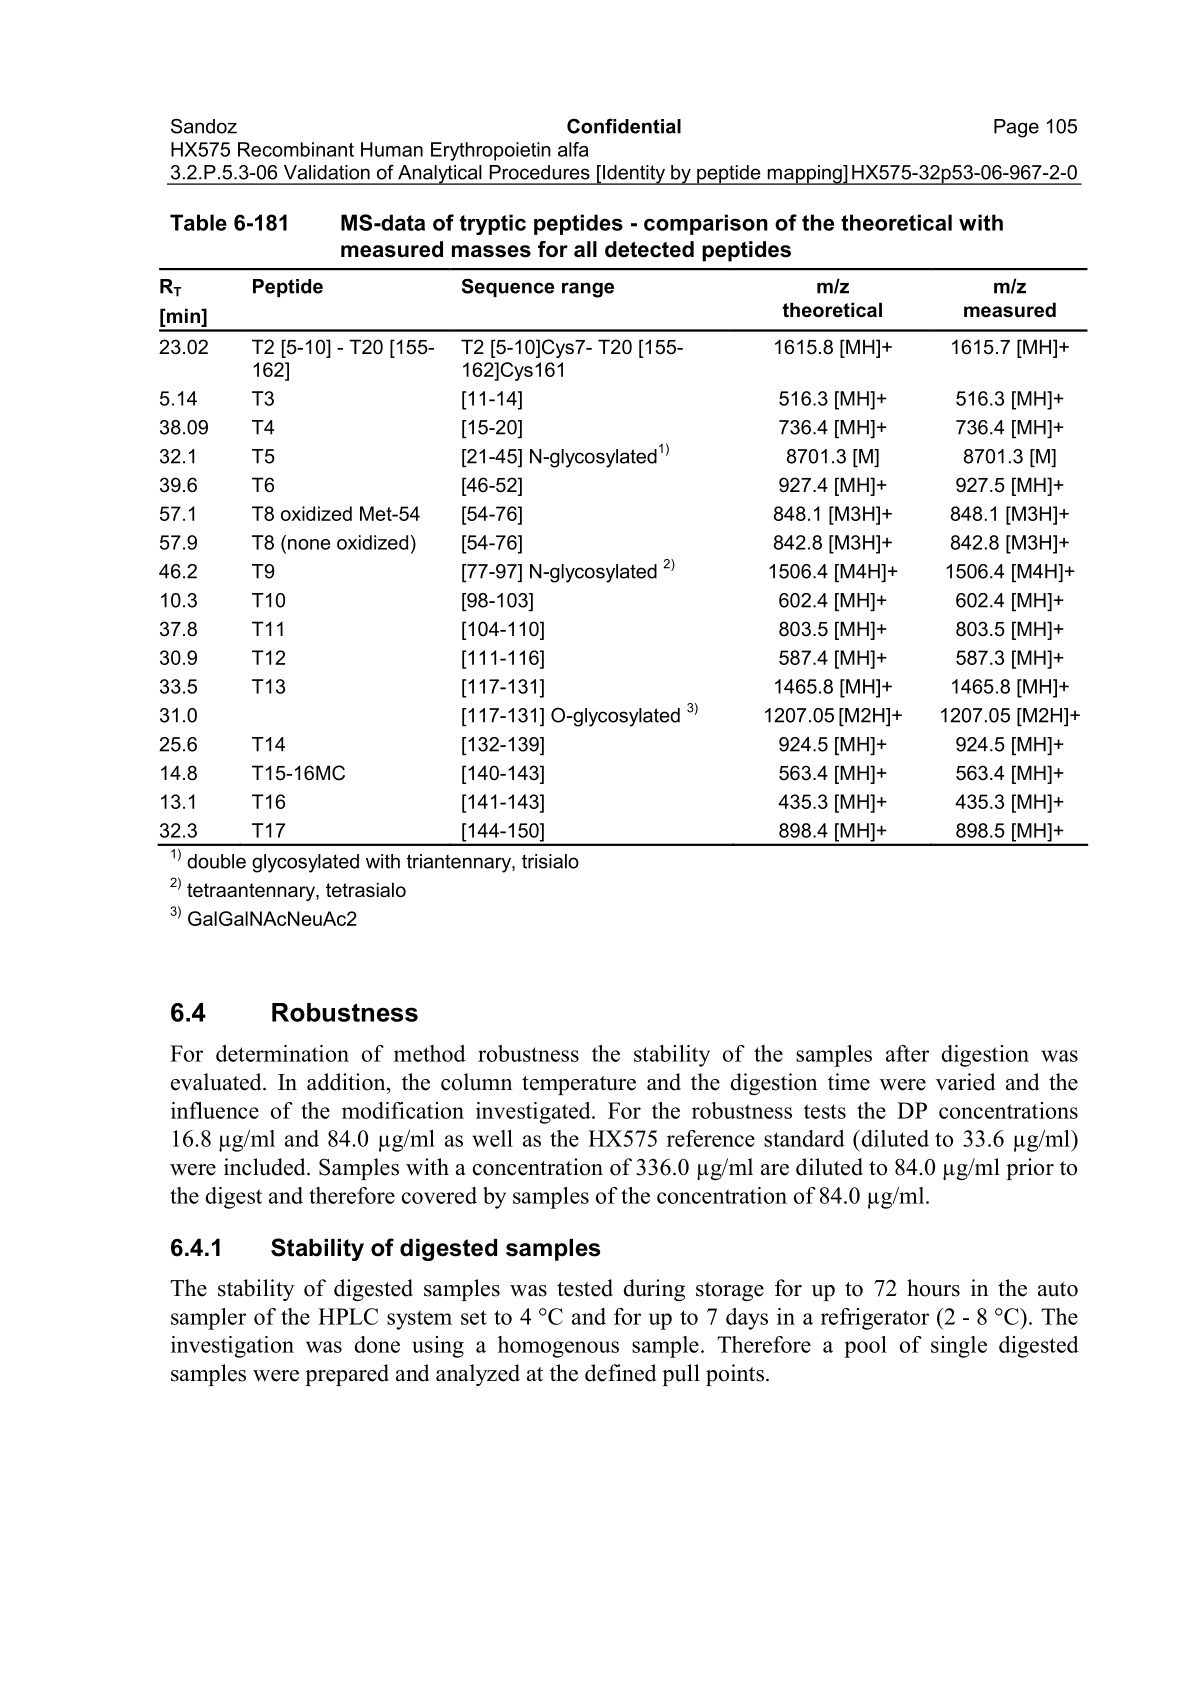partial_lined: (156, 265, 1089, 847)
